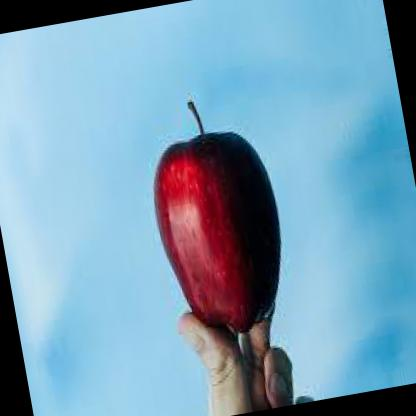apple: (137, 86, 299, 345)
